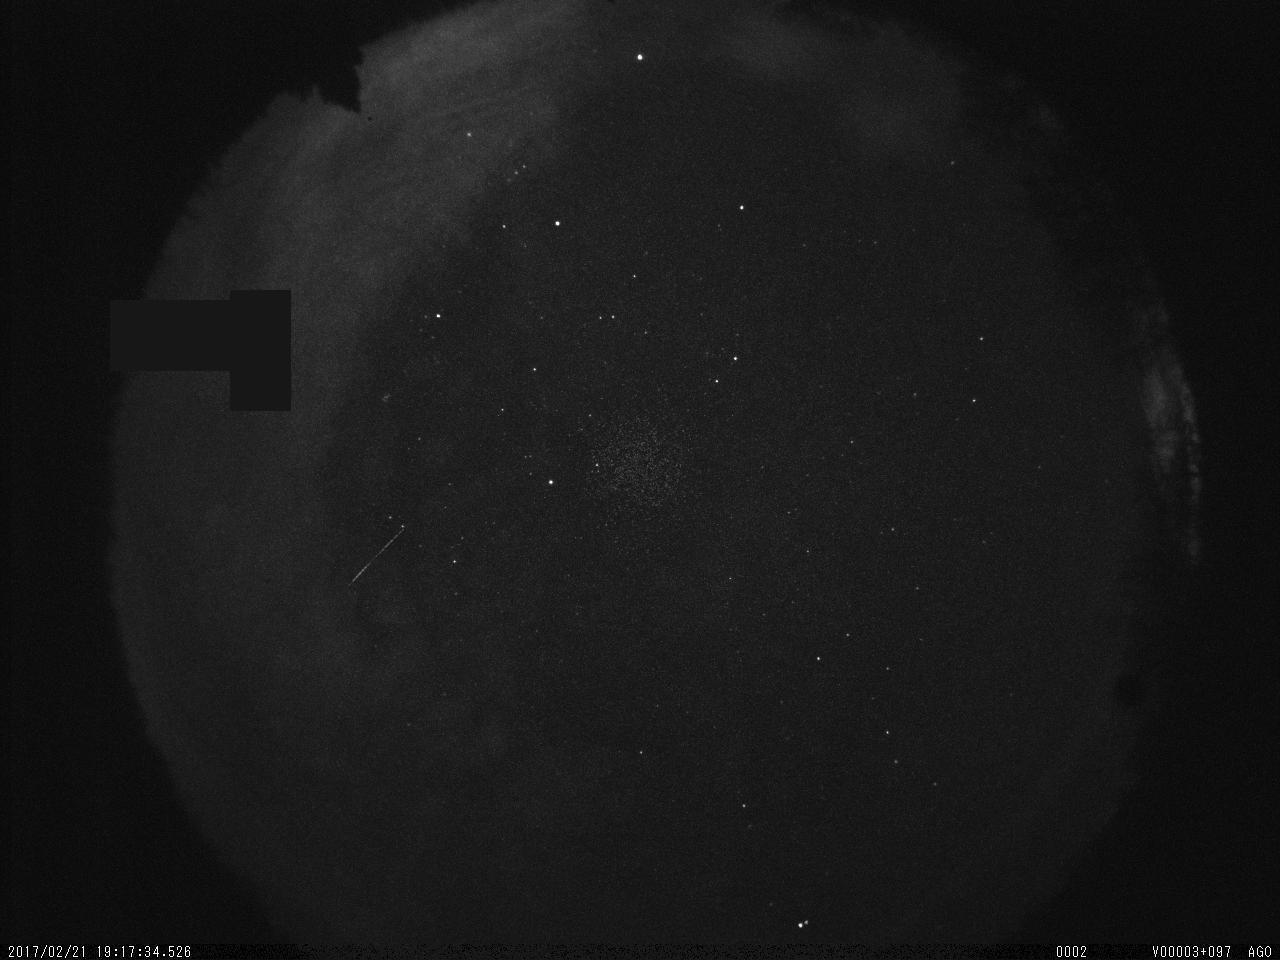meteor: (346, 522, 412, 583)
